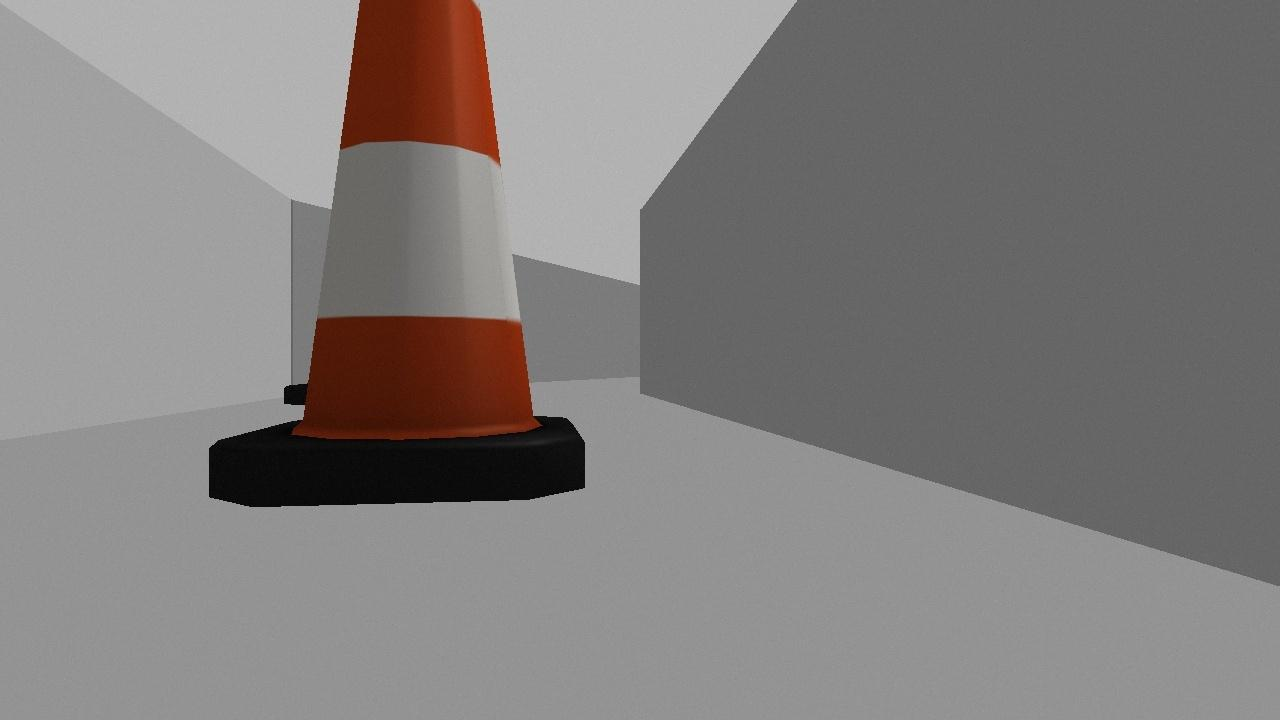cone_barrel: (206, 0, 583, 505)
